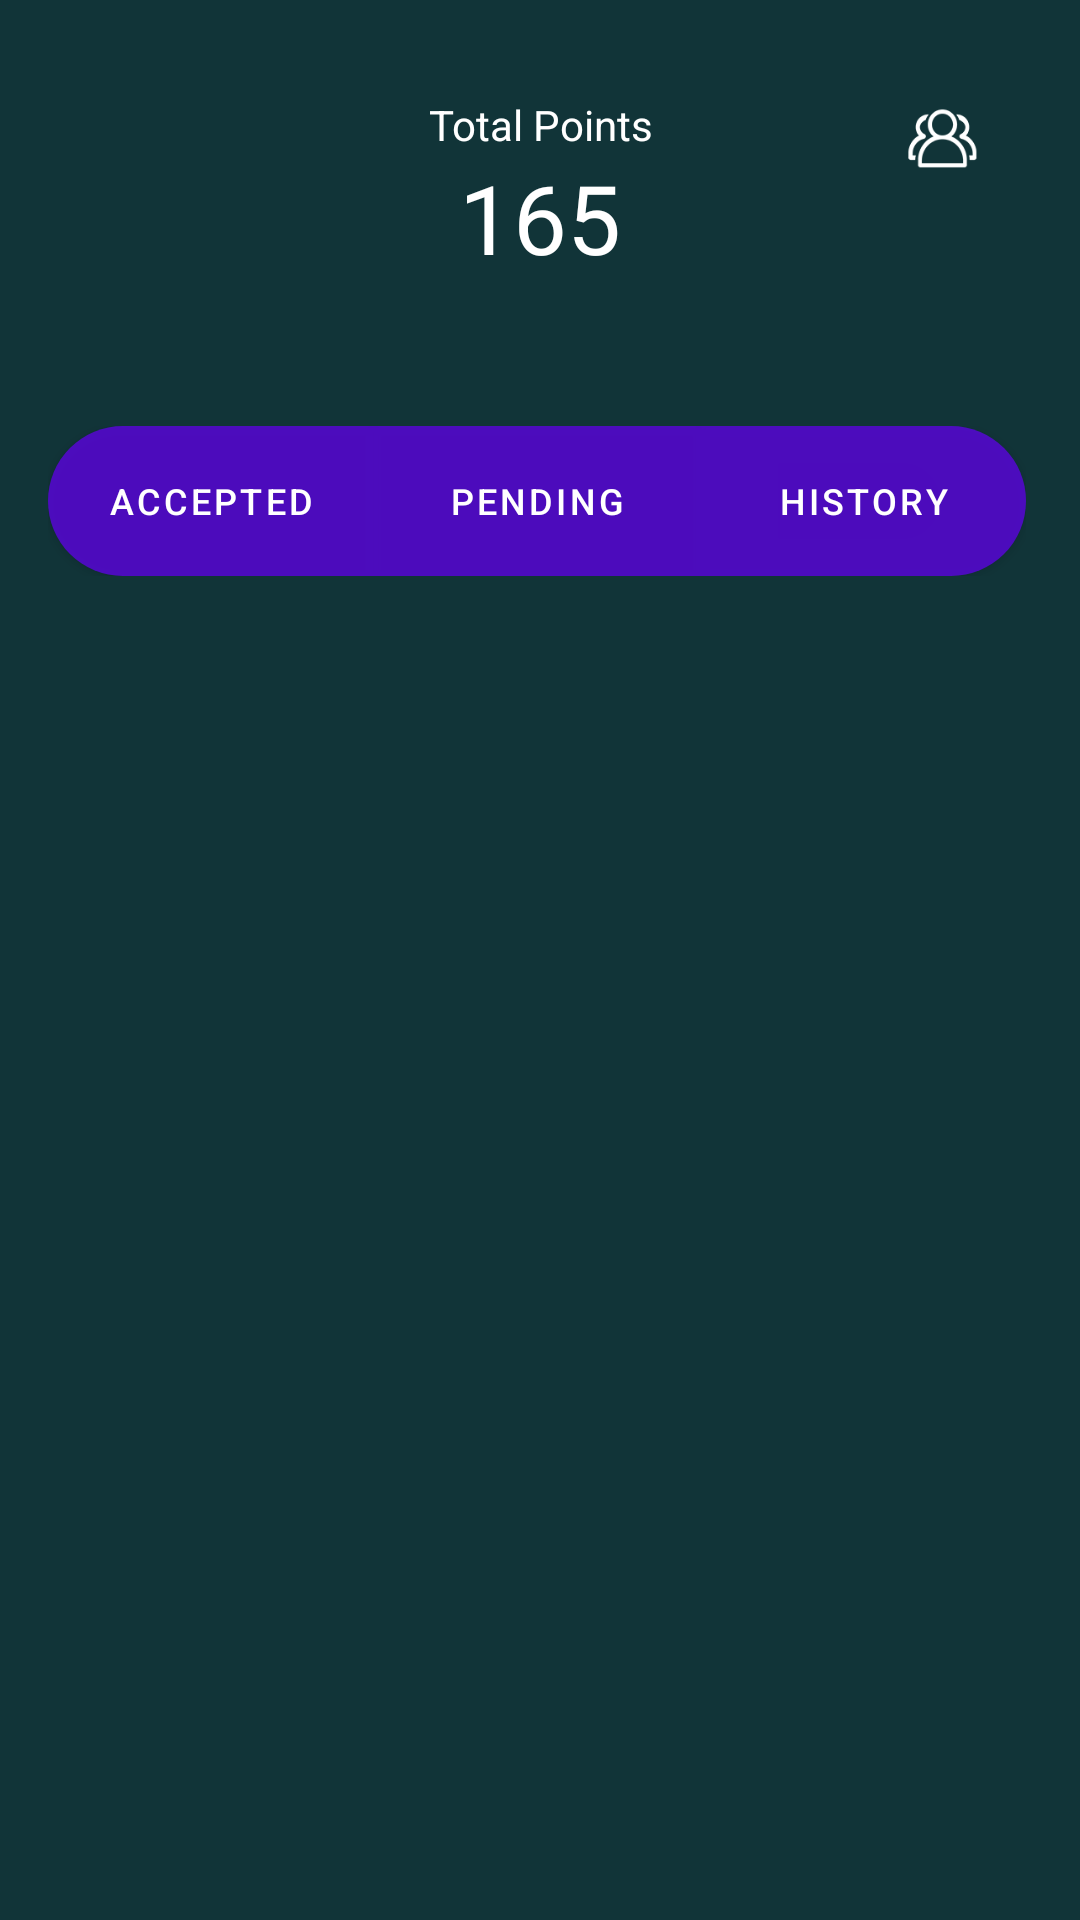

Icon click points for this 1080px x 1920px phone screenshot, format (x,y):
team: (942,138)
